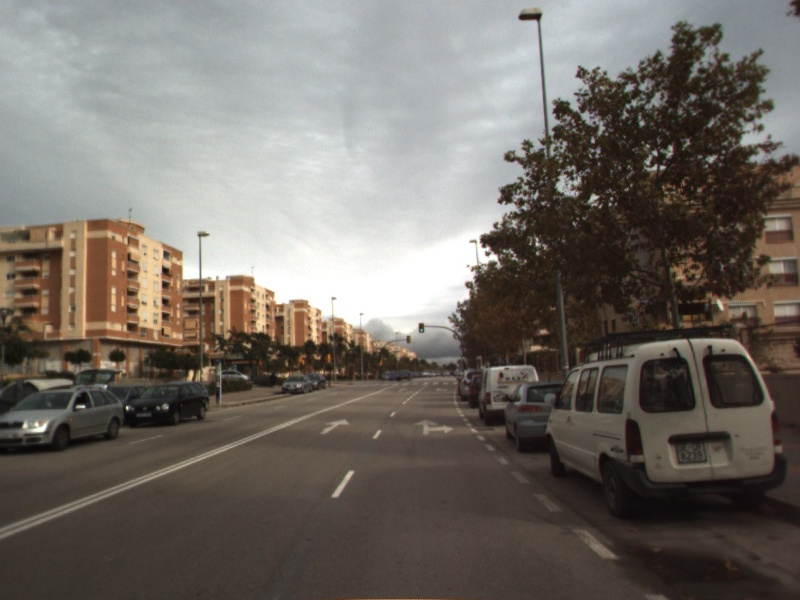STRAIGHT: (318, 416, 352, 436)
STRAIGHT_RIGHT: (412, 416, 456, 436)
